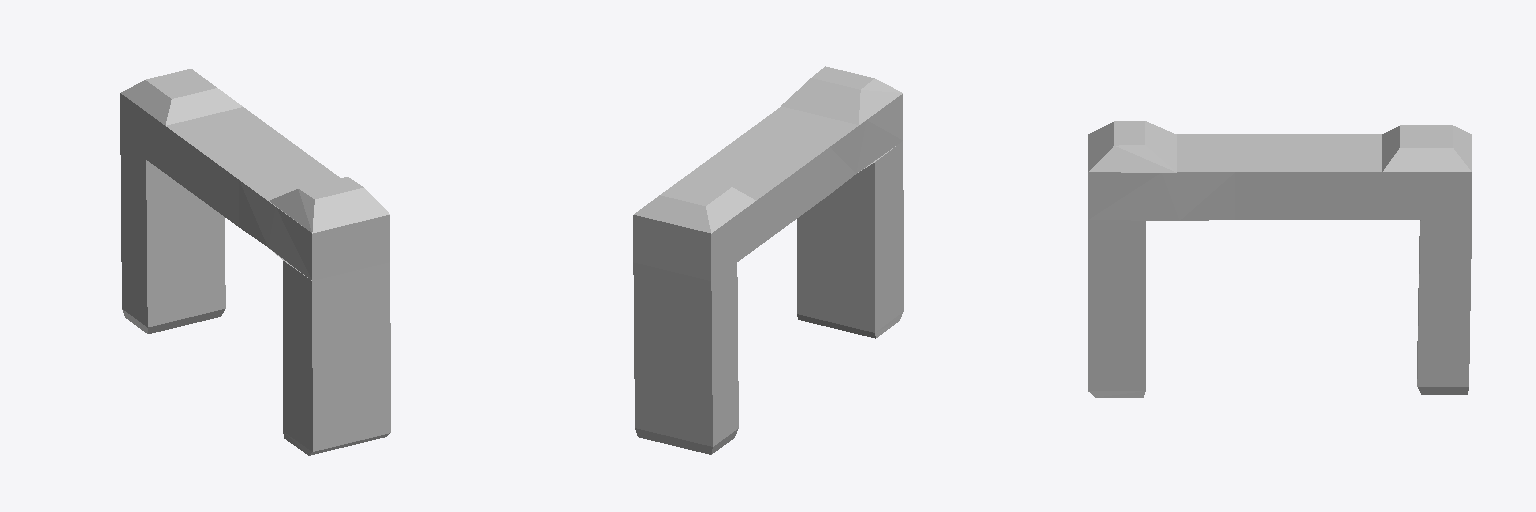
File: obstacle.obj
3 views of the same model, side by side, from view 1: azimuth 30°, elevation 25°; view 2: azimuth 150°, elevation 25°; view 3: azimuth 270°, elevation 25° (orthographic).
Parts seen in each view (by area): view 1: Cube; view 2: Cube; view 3: Cube.
Part boxes in pixels (x1,y1,x2,y2): Cube: (120, 69, 390, 455); Cube: (633, 66, 903, 454); Cube: (1088, 121, 1471, 397).
Bounding box in the file's own units: 2.05 × 6.02 × 8.53.